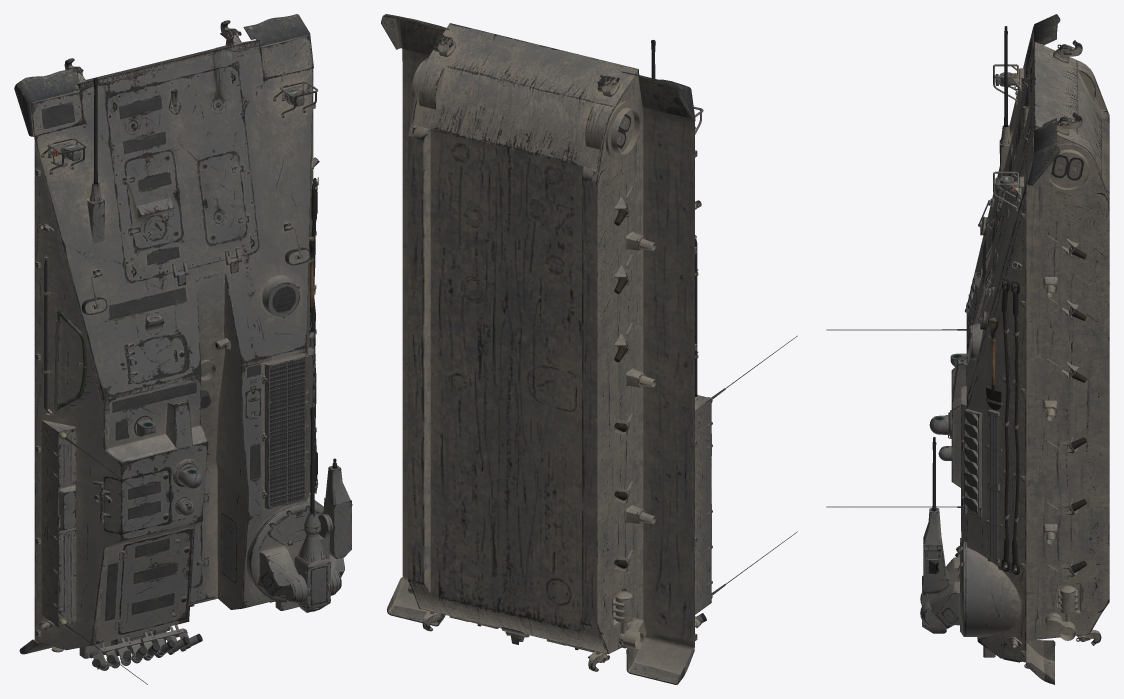
Rendered from Hull.glb.
3 renders of one model, left to right at view 1: azimuth 30°, elevation 25°; view 2: azimuth 150°, elevation 25°; view 3: azimuth 270°, elevation 25°, orthographic. The views are drawn at different scales.
Visible parts, largest first — view 1: set_0_group_0; view 2: set_0_group_0; view 3: set_0_group_0.
Boxes of the visible parts, left/top/right/bottom form: set_0_group_0: left=14, top=14, right=352, bottom=684; set_0_group_0: left=381, top=14, right=797, bottom=684; set_0_group_0: left=826, top=14, right=1109, bottom=684.
Bounding box in the file's own units: 3.51 × 6.9 × 3.2.
1 material, 1 textured.
